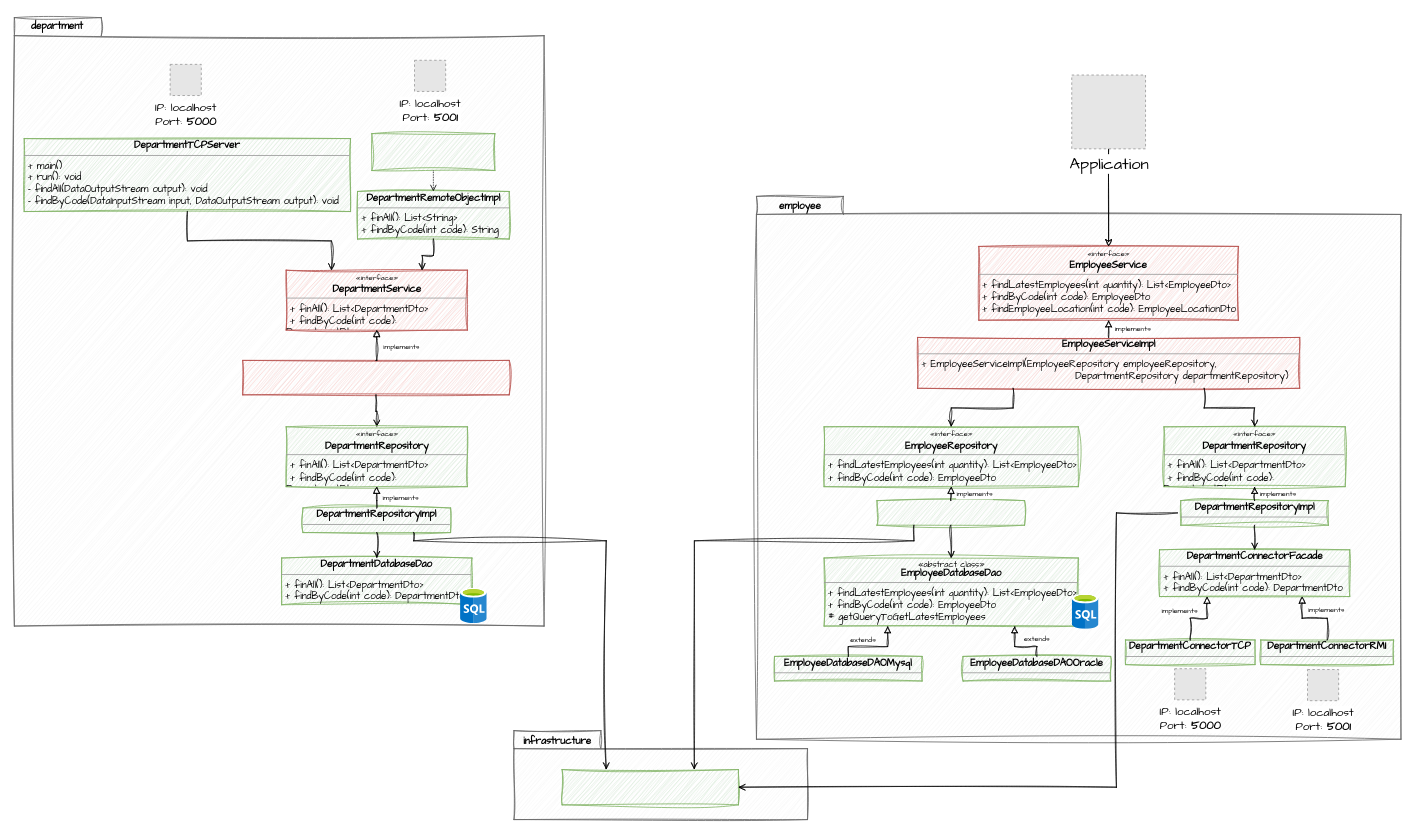
This 1415x834 diagram has some shape labels left out. Grey dashed boxes stand in for pictures. The centre of each missing label's shape, as x and y in pixels:
"DepartmentRMIServer + main: void" goes at [433,152].
"DepartmentServiceImpl + DepartmentServiceImpl(DepartmentRepository repository)" goes at [375,377].
"EmployeeRepositoryImpl" goes at [950,512].
"ObjectFactory + build(String className): Object" goes at [649,787].
